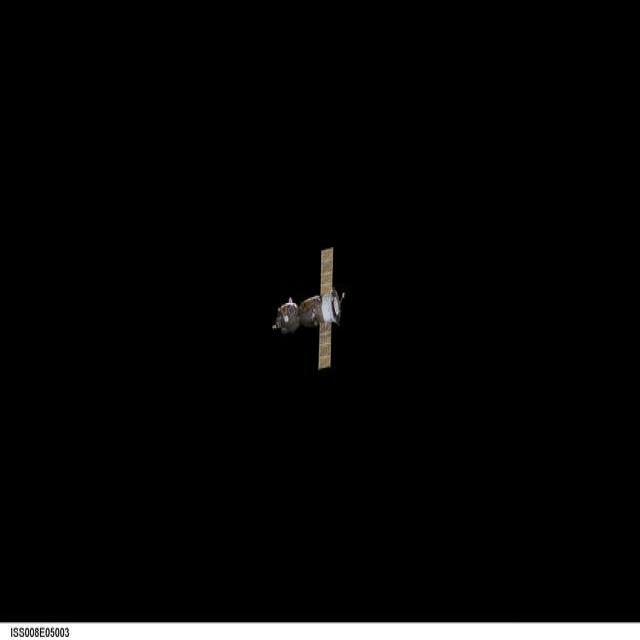satellite: (272, 248, 341, 369)
